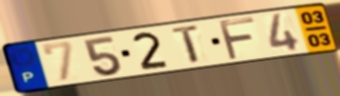2: (131, 30, 170, 71)
4: (267, 11, 302, 53)
5: (81, 34, 124, 77)
7: (39, 39, 80, 84)
F: (216, 15, 258, 62)
T: (171, 23, 203, 66)
